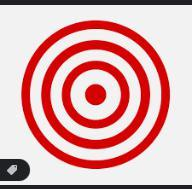target_red: (20, 19, 170, 169)
